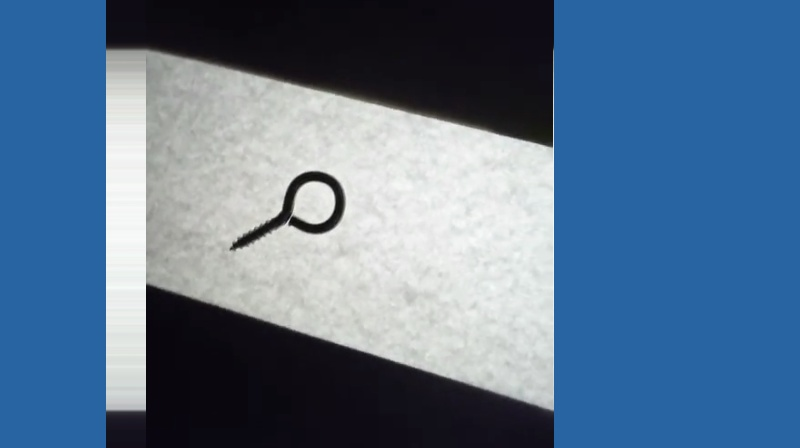O001: (223, 167, 351, 256)
